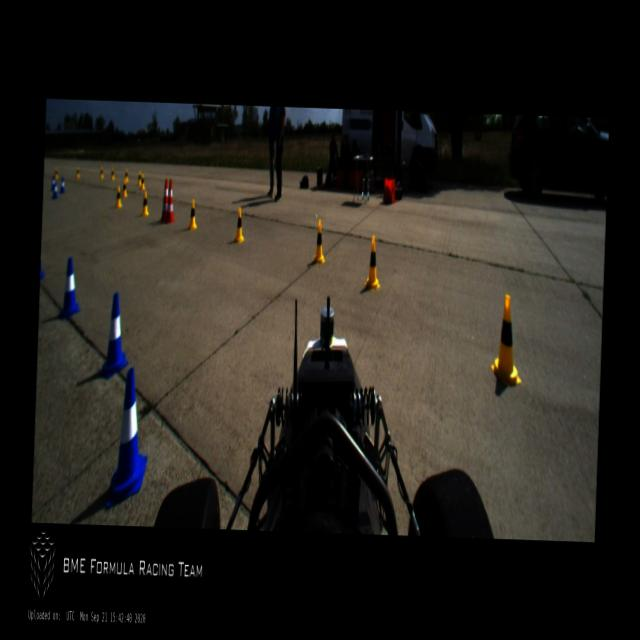blue_cone: (106, 366, 150, 509), (99, 292, 129, 379), (58, 257, 80, 319), (52, 180, 57, 199), (60, 175, 64, 192), (51, 175, 55, 191)
large_orange_cone: (164, 178, 176, 223), (160, 178, 169, 223)
yellow_cone: (489, 296, 522, 386), (364, 236, 380, 292), (312, 220, 324, 263), (233, 206, 244, 243), (188, 197, 197, 231), (142, 189, 148, 217), (115, 185, 122, 207), (121, 179, 128, 198), (137, 170, 142, 186), (140, 173, 144, 189), (124, 167, 128, 181), (99, 166, 103, 179), (54, 167, 58, 180), (110, 168, 114, 180), (76, 166, 78, 177)
